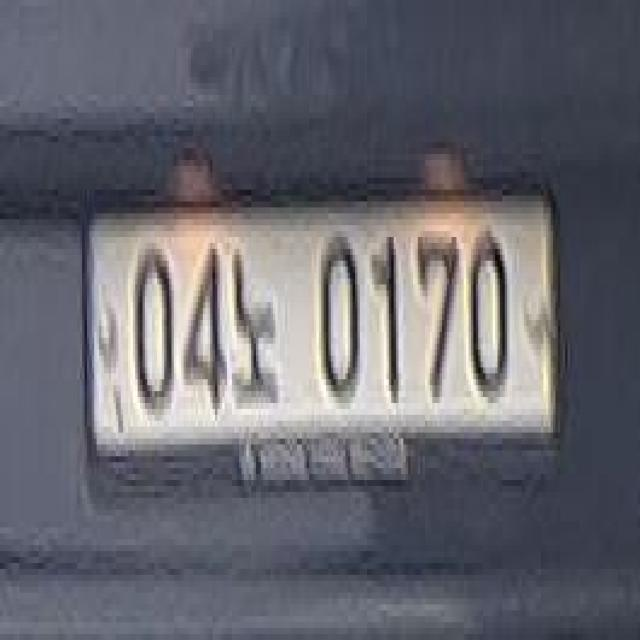illegal_plate: (90, 178, 554, 497)
